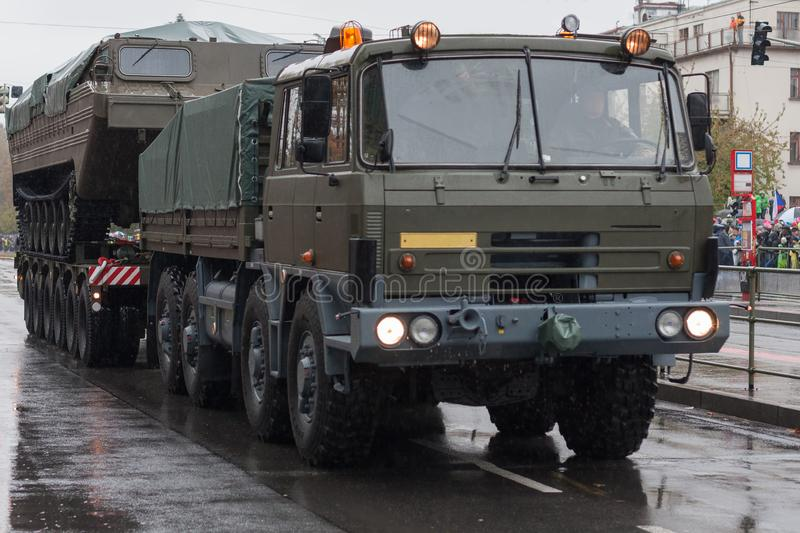camion: (186, 29, 721, 464)
